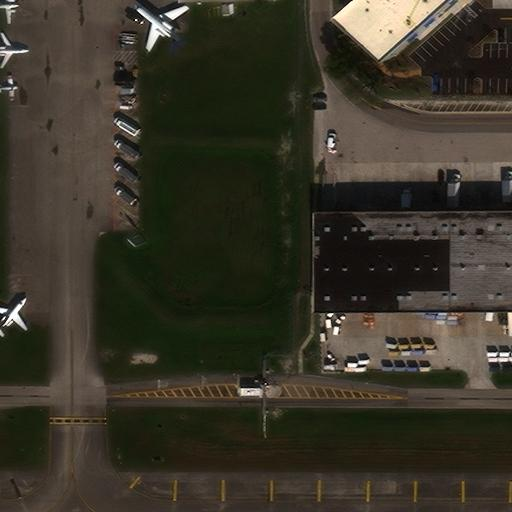Medium Civil Transport: (134, 3, 185, 48)
Small Civil Transport: (0, 31, 29, 69), (0, 296, 28, 332), (0, 74, 18, 100), (0, 0, 19, 24)
